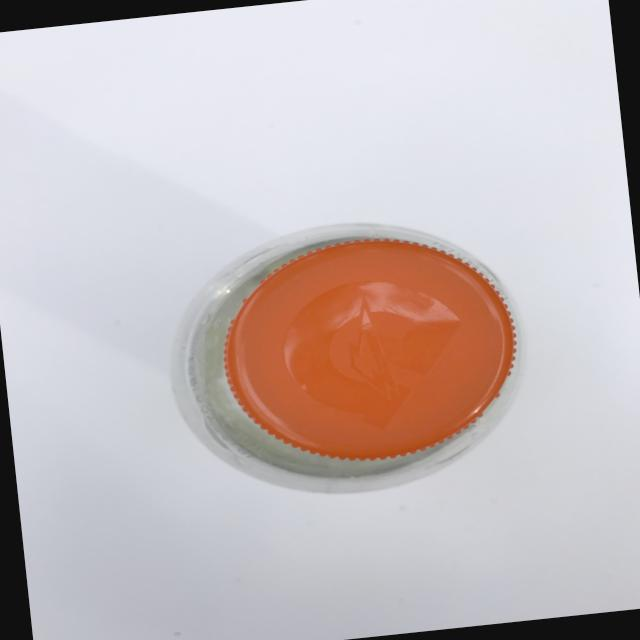Plastic: (142, 185, 570, 546)
